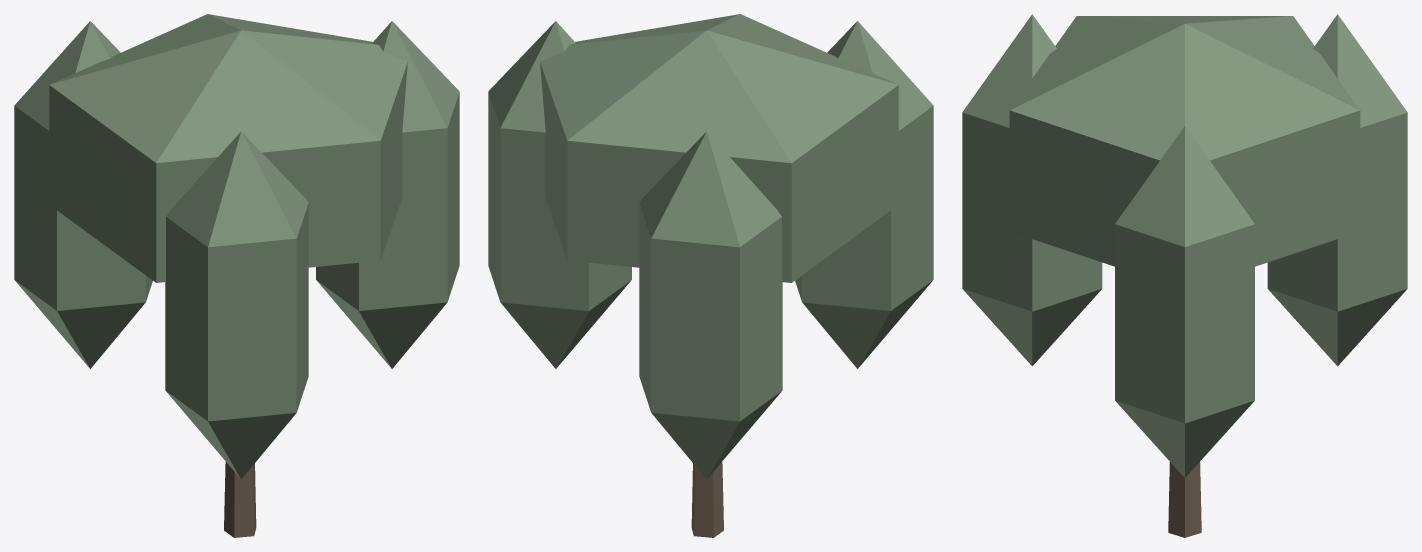
The model's file is sunland_willow.glb.
3 renders of one model, left to right at view 1: azimuth 30°, elevation 25°; view 2: azimuth 150°, elevation 25°; view 3: azimuth 270°, elevation 25°, orthographic.
Parts seen in each view (by area): view 1: sunland_willow_leaf_sage, sunland_willow_bark; view 2: sunland_willow_leaf_sage, sunland_willow_bark; view 3: sunland_willow_leaf_sage, sunland_willow_bark.
Part boxes in pixels (<box>): sunland_willow_leaf_sage: <box>14,14,459,479</box>; sunland_willow_bark: <box>224,462,256,537</box>; sunland_willow_leaf_sage: <box>488,14,933,479</box>; sunland_willow_bark: <box>691,462,723,537</box>; sunland_willow_leaf_sage: <box>962,14,1407,477</box>; sunland_willow_bark: <box>1168,462,1201,537</box>.
Bounding box in the file's own units: 4.8 × 6.44 × 5.13.
